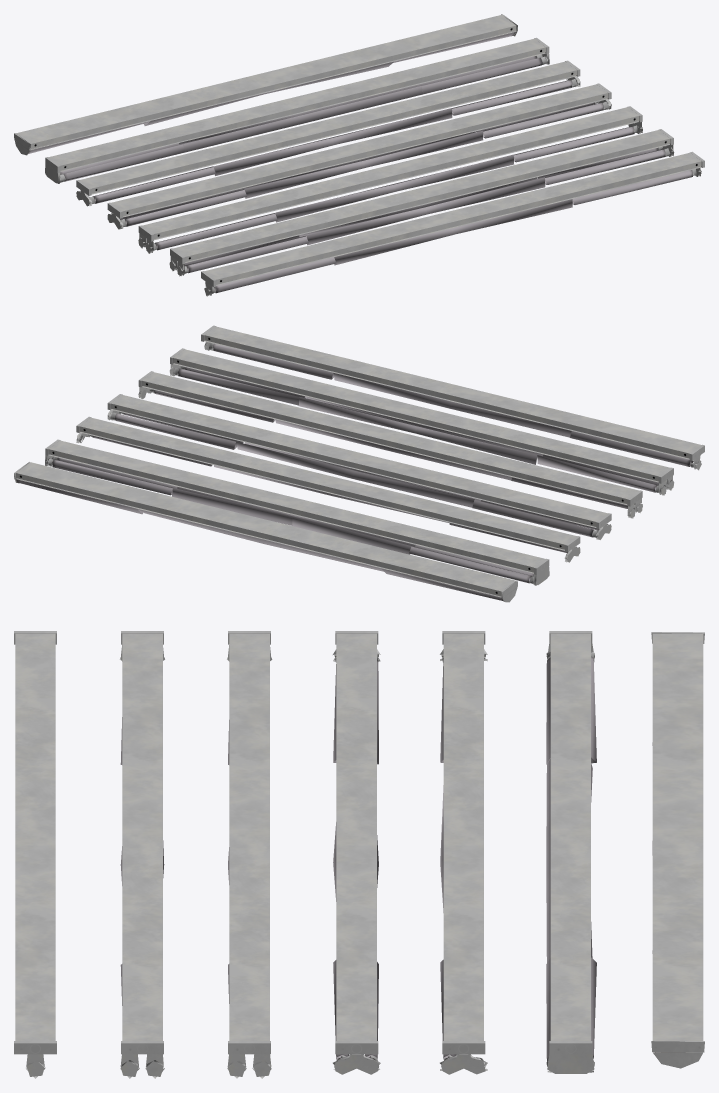
The model's file is mounted_fluorescent_lights_game.gltf.
3 views of the same model, one above another, from view 1: azimuth 30°, elevation 25°; view 2: azimuth 150°, elevation 25°; view 3: azimuth 270°, elevation 25° (orthographic). The views are drawn at different scales.
Visible parts, largest first — view 1: mounted_fluorescent_lights_b, mounted_fluorescent_lights_f, mounted_fluorescent_lights_d, mounted_fluorescent_lights_c, mounted_fluorescent_lights_e, mounted_fluorescent_lights_a, mounted_fluorescent_lights_g; view 2: mounted_fluorescent_lights_b, mounted_fluorescent_lights_f, mounted_fluorescent_lights_d, mounted_fluorescent_lights_a, mounted_fluorescent_lights_g, mounted_fluorescent_lights_c, mounted_fluorescent_lights_e; view 3: mounted_fluorescent_lights_g, mounted_fluorescent_lights_f, mounted_fluorescent_lights_d, mounted_fluorescent_lights_e, mounted_fluorescent_lights_b, mounted_fluorescent_lights_c, mounted_fluorescent_lights_a.
Boxes of the visible parts, x1=… form: mounted_fluorescent_lights_b: x1=169, y1=129, x2=674, y2=276; mounted_fluorescent_lights_f: x1=45, y1=37, x2=549, y2=183; mounted_fluorescent_lights_d: x1=107, y1=83, x2=611, y2=229; mounted_fluorescent_lights_c: x1=138, y1=106, x2=642, y2=253; mounted_fluorescent_lights_e: x1=76, y1=60, x2=580, y2=206; mounted_fluorescent_lights_a: x1=201, y1=151, x2=704, y2=296; mounted_fluorescent_lights_g: x1=14, y1=14, x2=517, y2=155; mounted_fluorescent_lights_b: x1=169, y1=348, x2=674, y2=495; mounted_fluorescent_lights_f: x1=45, y1=439, x2=549, y2=585; mounted_fluorescent_lights_d: x1=107, y1=394, x2=611, y2=540; mounted_fluorescent_lights_a: x1=201, y1=325, x2=704, y2=470; mounted_fluorescent_lights_g: x1=14, y1=462, x2=517, y2=602; mounted_fluorescent_lights_c: x1=138, y1=371, x2=642, y2=518; mounted_fluorescent_lights_e: x1=76, y1=416, x2=580, y2=562; mounted_fluorescent_lights_g: x1=651, y1=632, x2=704, y2=1068; mounted_fluorescent_lights_f: x1=546, y1=631, x2=596, y2=1073; mounted_fluorescent_lights_d: x1=333, y1=631, x2=380, y2=1074; mounted_fluorescent_lights_e: x1=440, y1=631, x2=487, y2=1074; mounted_fluorescent_lights_b: x1=119, y1=631, x2=164, y2=1078; mounted_fluorescent_lights_c: x1=227, y1=631, x2=272, y2=1078; mounted_fluorescent_lights_a: x1=14, y1=631, x2=56, y2=1078.
Size of the model in its own units: 0.9122 by 0.0365 by 0.6454.
2 materials, 2 textured.
